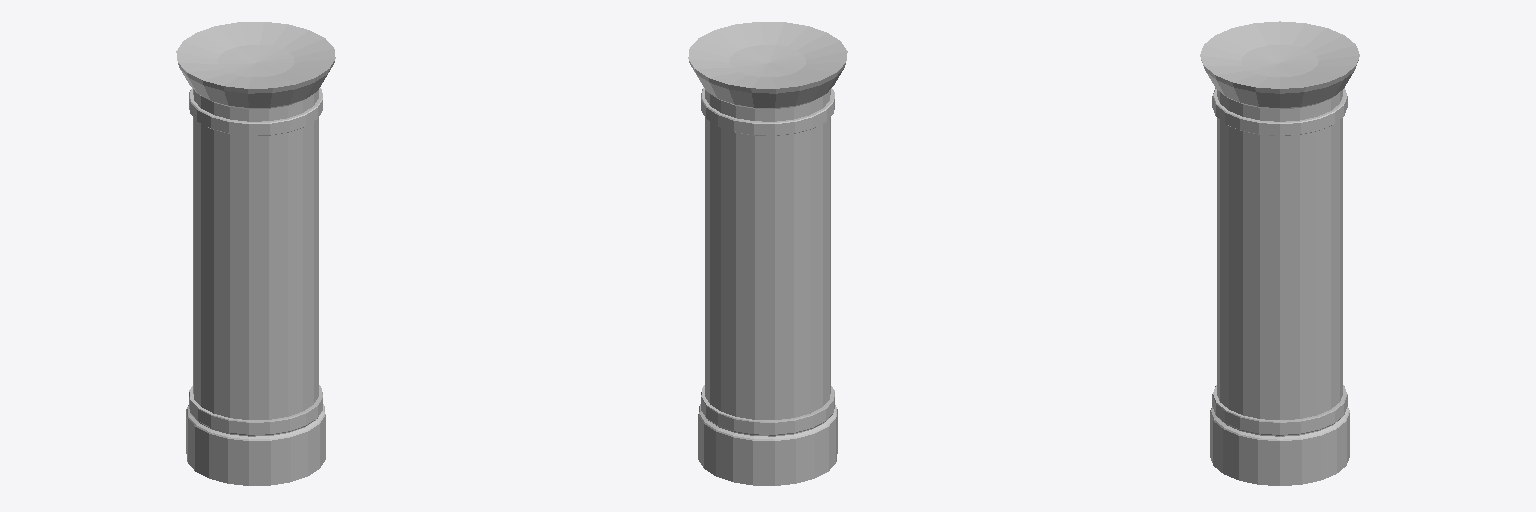
File: BasicPillar.obj
The picture shows the model from 3 angles: view 1: azimuth 30°, elevation 25°; view 2: azimuth 150°, elevation 25°; view 3: azimuth 270°, elevation 25°; orthographic projection.
Parts seen in each view (by area): view 1: pCylinder1; view 2: pCylinder1; view 3: pCylinder1.
Boxes of the visible parts, x1=… form: pCylinder1: x1=176, y1=22, x2=335, y2=485; pCylinder1: x1=688, y1=22, x2=847, y2=485; pCylinder1: x1=1200, y1=21, x2=1359, y2=485.
Size of the model in its own units: 254 by 701 by 254.